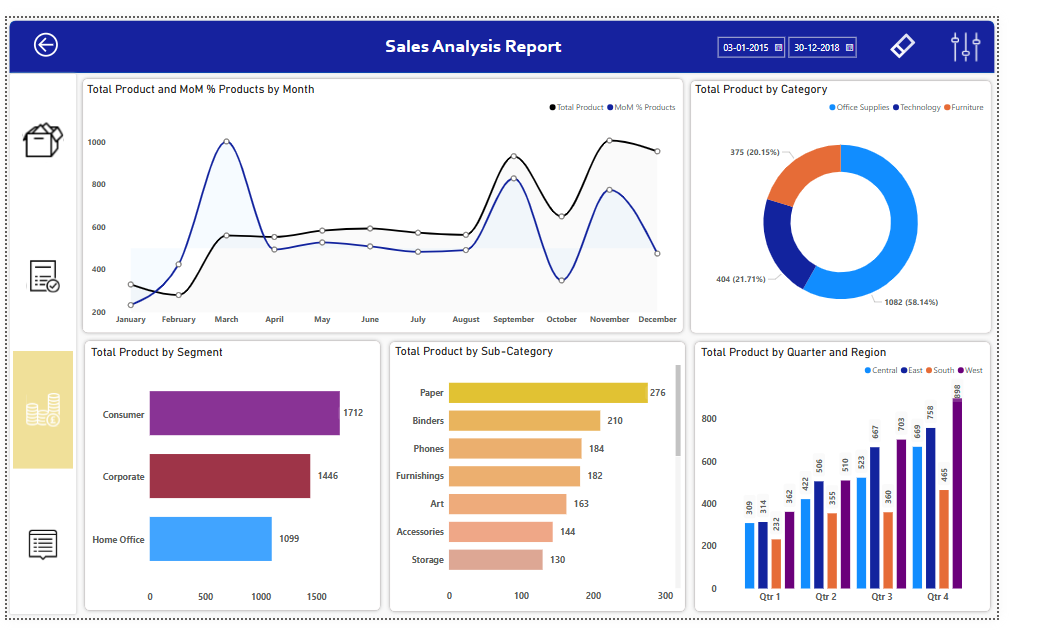

This screenshot's page, from the dashboard's own definition file:
{"tool":"powerbi","page":{"name":"Products","canvas":[1650,1000],"ordinal":2},"visuals":[{"type":"shape","box":[0,0,1650,95.7],"z":0},{"type":"textbox","box":[595.7,21.4,364.3,50],"z":1000},{"type":"shape","box":[120,95.7,1012.9,435.7],"z":2000},{"type":"shape","box":[1132.9,98.6,513,432.9],"z":3000},{"type":"slicer","fields":{"Values":["DimDate.Date"]},"box":[1172,22,256,50],"z":4000},{"type":"actionButton","box":[1460,22,66,50],"z":5000},{"type":"shape","box":[0,88.6,120,910],"z":6000},{"type":"actionButton","box":[14.3,21.4,100,45.7],"z":7000},{"type":"actionButton","title":"Filter Button","box":[1560,18,76,60],"z":8000},{"type":"actionButton","box":[10,108.4,100,196],"z":11000},{"type":"actionButton","box":[10,331.7,100,196],"z":12000},{"type":"actionButton","box":[10,555.1,100,196],"z":13000},{"type":"actionButton","box":[10,778.4,100,196],"z":14000},{"type":"shape","box":[124,531.7,505,462],"z":15000},{"type":"shape","box":[632,533.7,505,462],"z":16000},{"type":"shape","box":[1140,533.7,505,462],"z":17000},{"type":"lineChart","fields":{"Y":["All Measure.Total Product"],"Category":["DimDate.Date.Variation.Date Hierarchy.Month"],"Y2":["All Measure.MoM % Products"]},"box":[128.6,107.1,995.7,415],"z":18000},{"type":"donutChart","fields":{"Category":["Sales_Data.Category"],"Y":["All Measure.Total Product"]},"box":[1141.4,107.1,495.7,415.7],"z":19000},{"type":"clusteredBarChart","fields":{"Y":["All Measure.Total Product"],"Category":["Sales_Data.Segment"]},"box":[134.3,544.3,485,440],"z":20000},{"type":"clusteredBarChart","fields":{"Y":["All Measure.Total Product"],"Category":["Sales_Data.Sub-Category"]},"box":[641.4,542.9,485.7,440],"z":21000},{"type":"lineClusteredColumnComboChart","fields":{"Category":["DimDate.Date.Variation.Date Hierarchy.Quarter"],"Y":["All Measure.Total Product"],"Series":["Sales_Data.Region"]},"box":[1151.4,544.3,484.3,440],"z":22000}]}

Visuals, with their boxes in screenshot pixels (x1, y1, x2, y2), scaled from the page's 1650x1000 canvas onto the 1037x636 screenshot:
shape: box(0, 0, 1036, 61)
textbox: box(374, 14, 603, 45)
shape: box(75, 61, 712, 338)
shape: box(712, 63, 1034, 338)
slicer - DimDate.Date: box(737, 14, 897, 46)
actionButton: box(918, 14, 959, 46)
shape: box(0, 56, 75, 635)
actionButton: box(9, 14, 72, 43)
"Filter Button" actionButton: box(980, 11, 1028, 50)
actionButton: box(6, 69, 69, 194)
actionButton: box(6, 211, 69, 336)
actionButton: box(6, 353, 69, 478)
actionButton: box(6, 495, 69, 620)
shape: box(78, 338, 395, 632)
shape: box(397, 339, 715, 633)
shape: box(716, 339, 1034, 633)
lineChart - All Measure.Total Product x DimDate.Date.Variation.Date Hierarchy.Month: box(81, 68, 707, 332)
donutChart - Sales_Data.Category x All Measure.Total Product: box(717, 68, 1029, 333)
clusteredBarChart - All Measure.Total Product x Sales_Data.Segment: box(84, 346, 389, 626)
clusteredBarChart - All Measure.Total Product x Sales_Data.Sub-Category: box(403, 345, 708, 625)
lineClusteredColumnComboChart - DimDate.Date.Variation.Date Hierarchy.Quarter x All Measure.Total Product: box(724, 346, 1028, 626)
